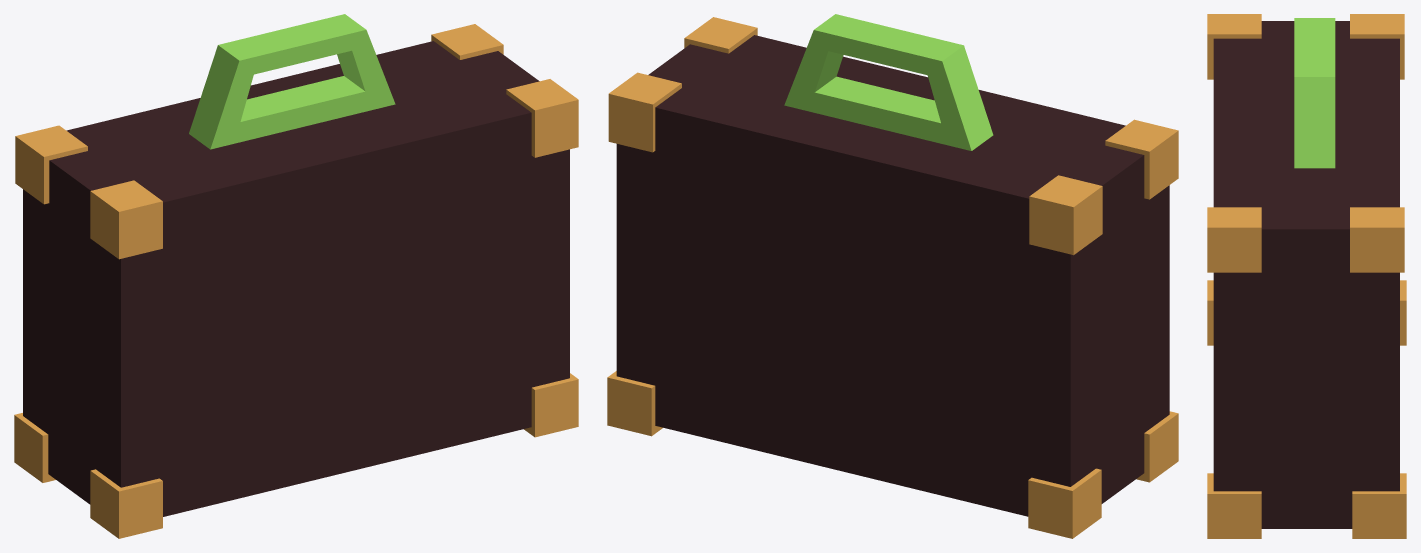
The model's file is Suit Case.glb.
The picture shows the model from 3 angles, left to right: view 1: azimuth 30°, elevation 25°; view 2: azimuth 150°, elevation 25°; view 3: azimuth 270°, elevation 25°; orthographic projection. The views are drawn at different scales.
Parts seen in each view (by area): view 1: Node; view 2: Node; view 3: Node.
Part boxes in pixels (x1,y1,x2,y2): Node: (14, 14, 578, 538); Node: (607, 14, 1178, 538); Node: (1207, 14, 1406, 538).
Bounding box in the file's own units: 0.597 × 0.5014 × 0.2357.
Materials: 1 (1 with a texture image).
